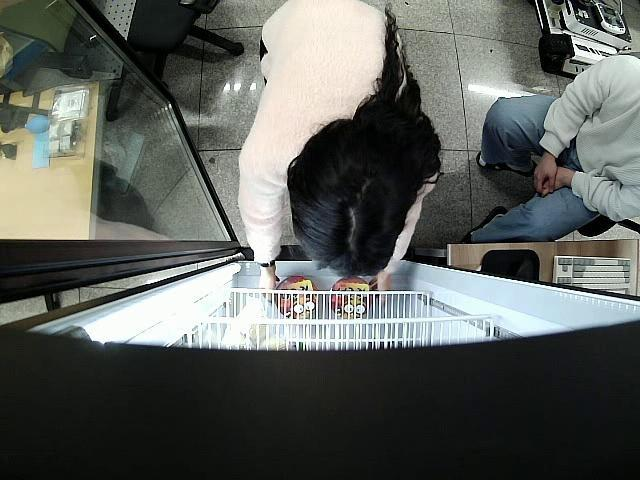05_nuguri_L: (274, 276, 318, 319)
